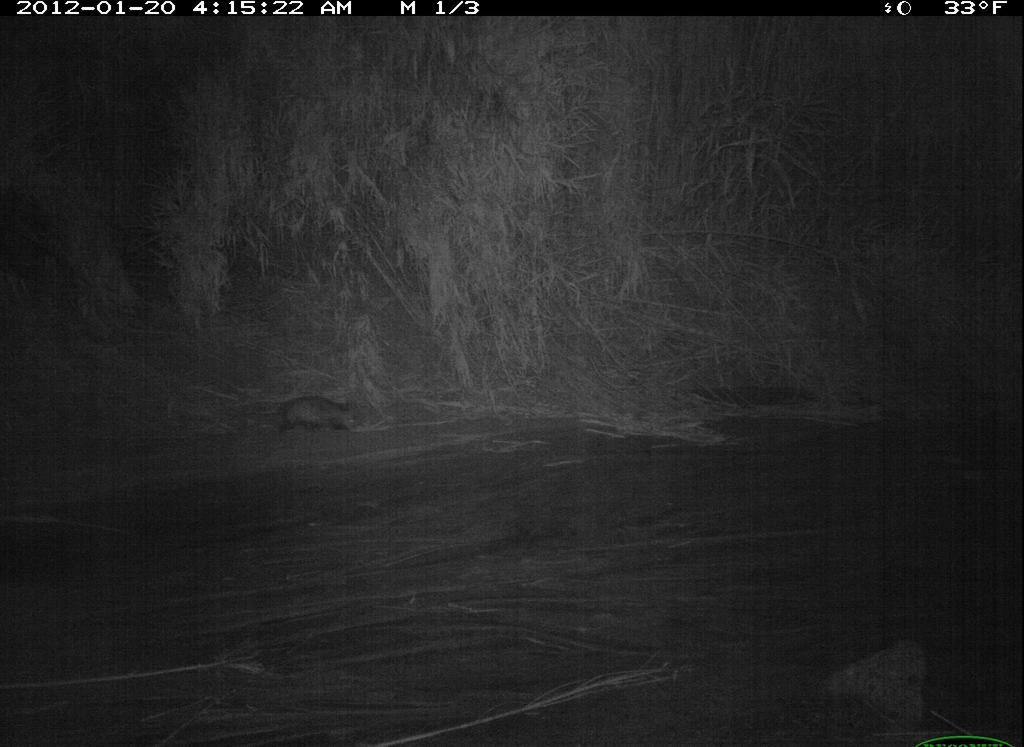opossum: (241, 381, 379, 442)
